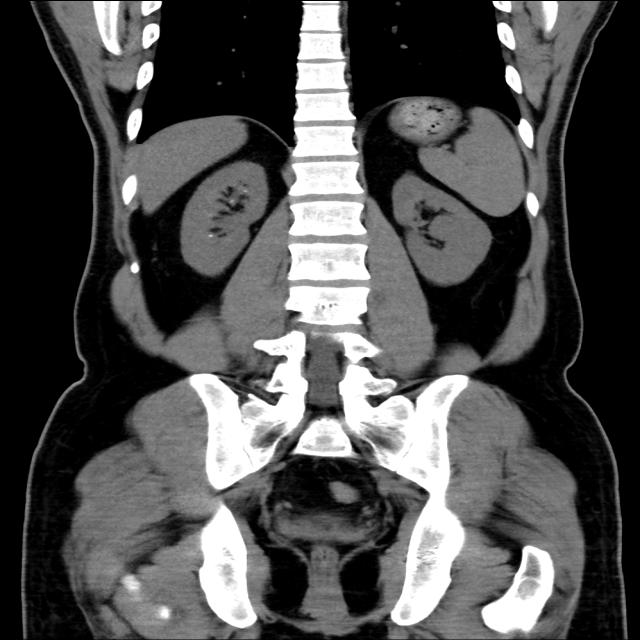kidneystone: (241, 184, 247, 192), (208, 230, 212, 238)
